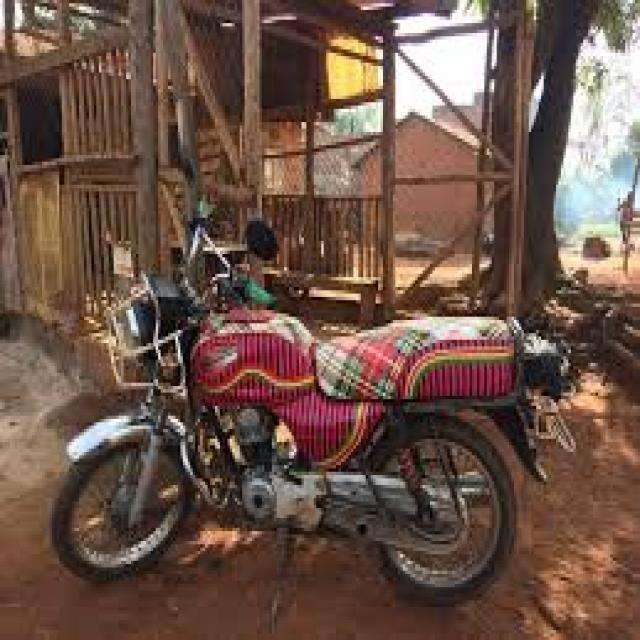bodaboda: (31, 170, 631, 632)
